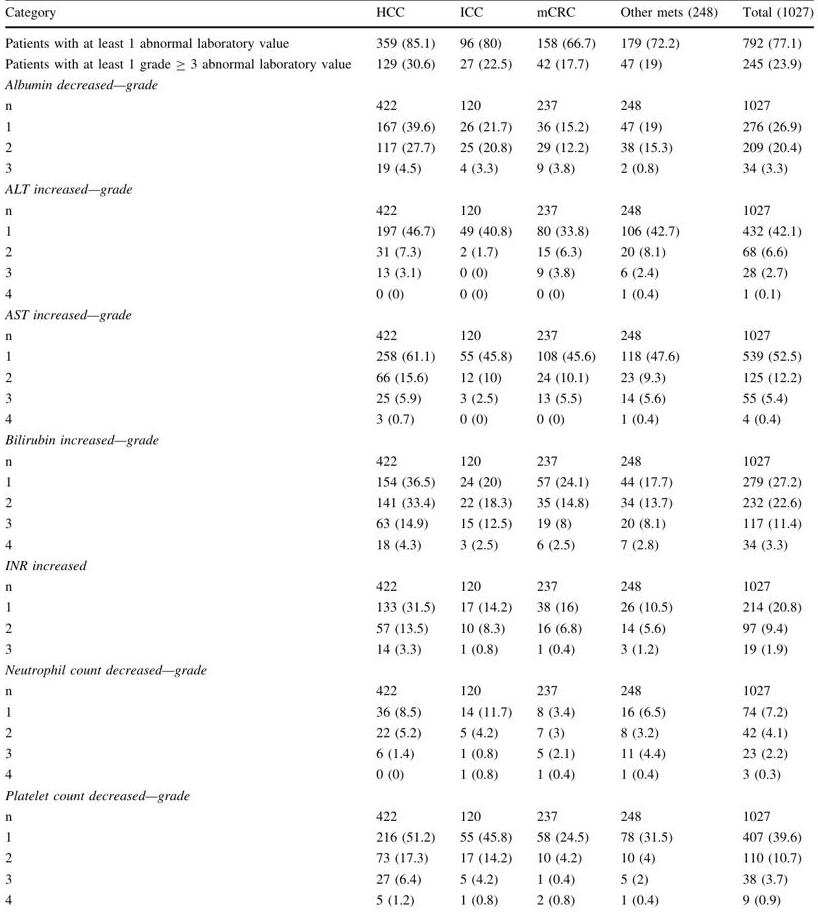table: (4, 5, 813, 906)
table column: (4, 5, 363, 906), (607, 5, 729, 906), (363, 5, 447, 906), (523, 5, 607, 906), (729, 5, 813, 906), (447, 5, 523, 906)
table column header: (4, 5, 813, 27)
table projected row header: (4, 74, 813, 95), (4, 178, 813, 199), (4, 304, 813, 325), (4, 429, 813, 450), (4, 659, 813, 680), (4, 784, 813, 805), (4, 555, 813, 575)
table row: (4, 27, 813, 53), (4, 5, 813, 27), (4, 53, 813, 74), (4, 74, 813, 95), (4, 95, 813, 116), (4, 116, 813, 137), (4, 157, 813, 178), (4, 178, 813, 199), (4, 199, 813, 220), (4, 220, 813, 241), (4, 241, 813, 262), (4, 262, 813, 283), (4, 283, 813, 304), (4, 304, 813, 325), (4, 325, 813, 346), (4, 366, 813, 387), (4, 387, 813, 408), (4, 408, 813, 429), (4, 429, 813, 450), (4, 450, 813, 471), (4, 471, 813, 492), (4, 492, 813, 513), (4, 513, 813, 534), (4, 534, 813, 555), (4, 575, 813, 596), (4, 596, 813, 617), (4, 617, 813, 638), (4, 638, 813, 659), (4, 659, 813, 680), (4, 680, 813, 701), (4, 701, 813, 722), (4, 722, 813, 743), (4, 743, 813, 764), (4, 784, 813, 805), (4, 805, 813, 826), (4, 826, 813, 847), (4, 847, 813, 868), (4, 868, 813, 889), (4, 137, 813, 157), (4, 346, 813, 366), (4, 555, 813, 575), (4, 764, 813, 784), (4, 889, 813, 906)
